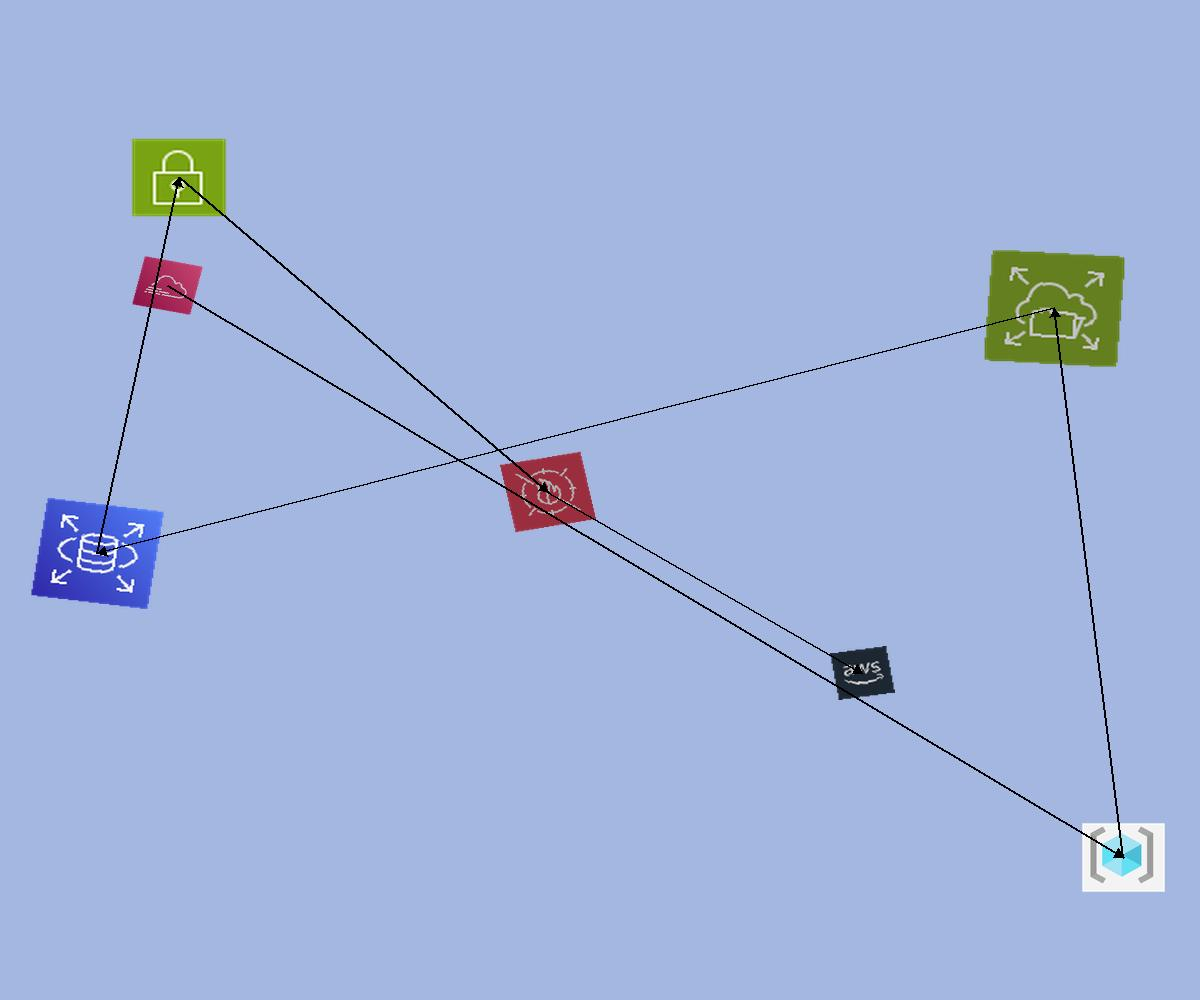AWS-Cloud-logo: (830, 646, 895, 700)
AWS-CloudTrail: (132, 256, 203, 315)
AWS-EFS: (983, 249, 1126, 368)
AWS-Public-subnet: (130, 137, 228, 218)
AWS-RDS: (30, 497, 165, 610)
AWS-WAF: (499, 451, 597, 533)
Azure_resource_group: (1082, 823, 1165, 892)
